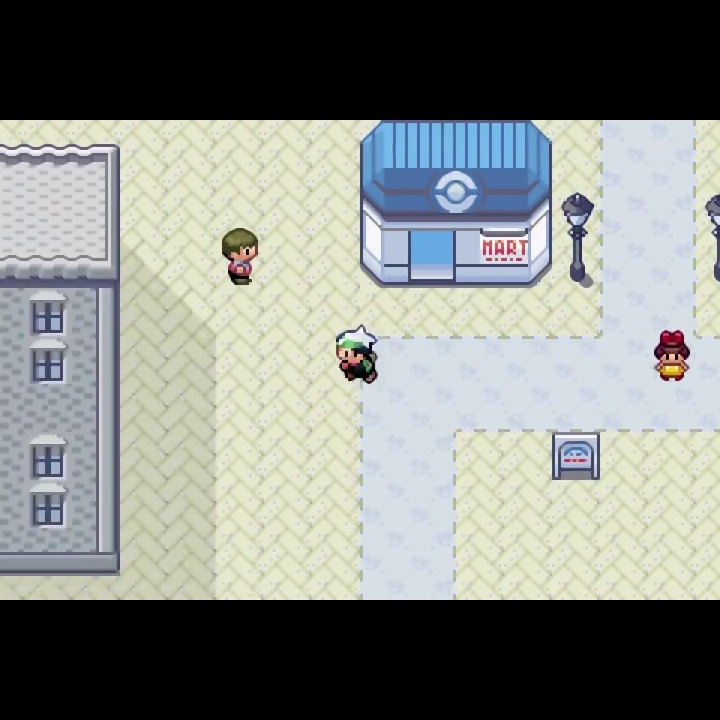agent: (330, 324, 382, 388)
house: (1, 141, 123, 576)
npc: (220, 226, 259, 287), (653, 326, 694, 383)
pokemart: (353, 120, 554, 291)
